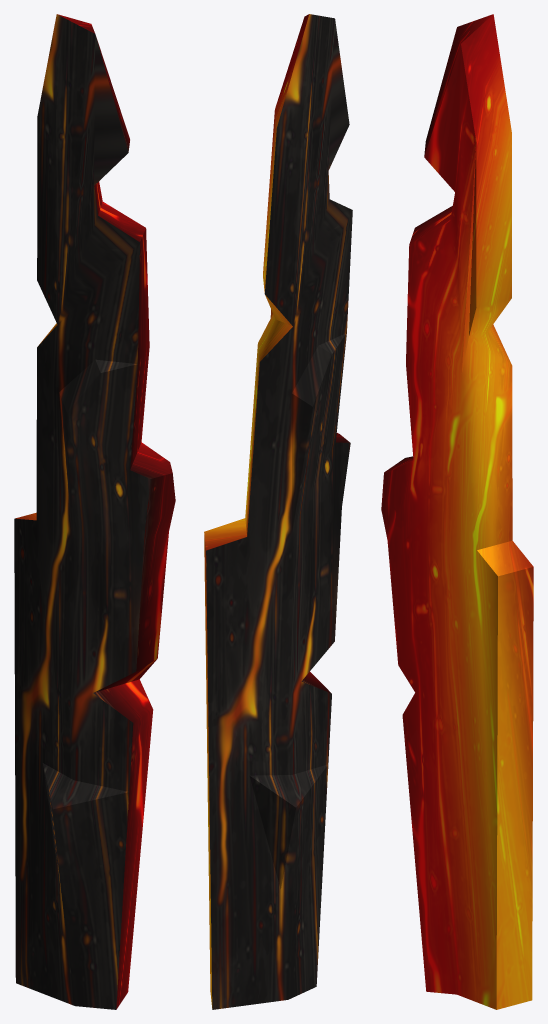
Rendered from p_mesh_hvs_burntforest_bark_part06.fbx.
The picture shows the model from 3 angles, left to right: view 1: azimuth 90°, elevation 25°; view 2: azimuth 150°, elevation 25°; view 3: azimuth 270°, elevation 25°; orthographic projection. The views are drawn at different scales.
Parts seen in each view (by area): view 1: p_mesh_hvs_burntforest_bark_part06; view 2: p_mesh_hvs_burntforest_bark_part06; view 3: p_mesh_hvs_burntforest_bark_part06.
Part boxes in pixels (x1,y1,x2,y2): p_mesh_hvs_burntforest_bark_part06: [14, 14, 175, 1009]; p_mesh_hvs_burntforest_bark_part06: [204, 14, 352, 1009]; p_mesh_hvs_burntforest_bark_part06: [381, 14, 533, 1009].
Bounding box in the file's own units: 1.01 × 8.84 × 1.28.
1 material, 1 textured.
